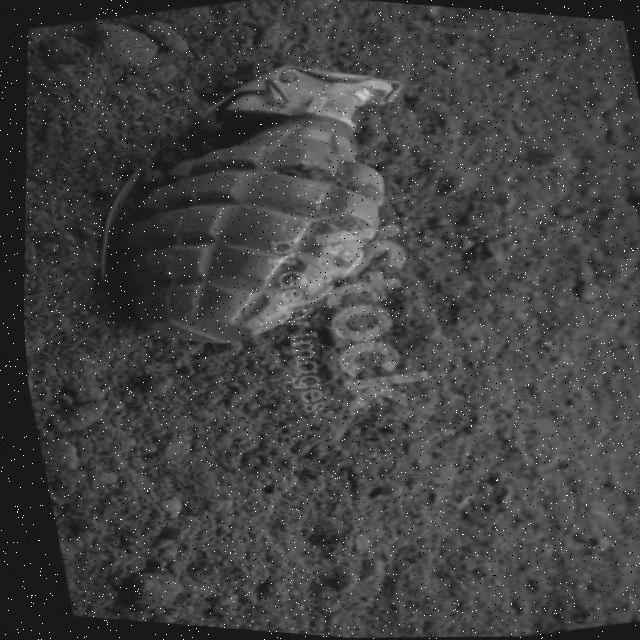grenade: (32, 19, 468, 391)
